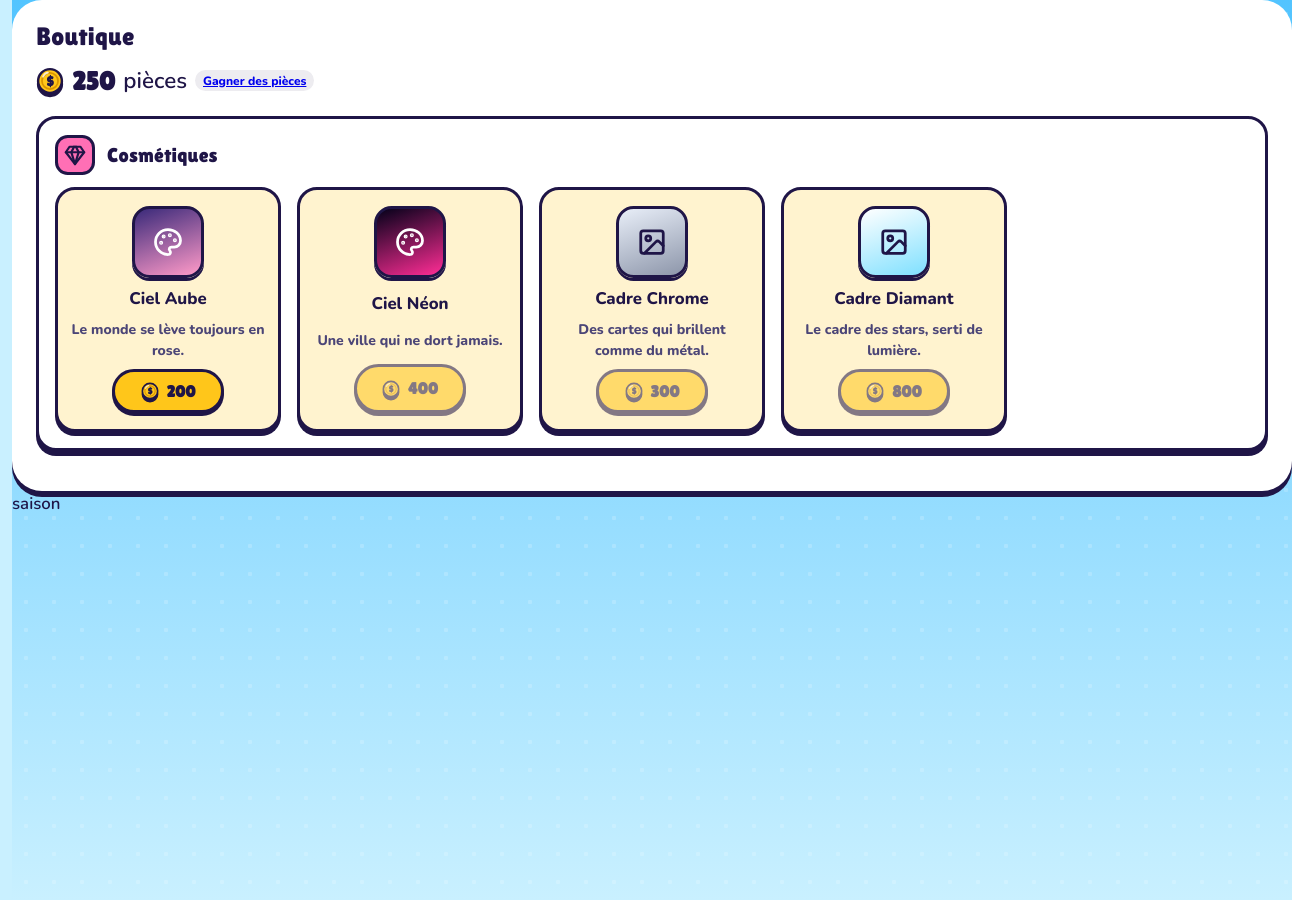
Test: Boutique du jeu › achète puis équipe un thème avec les pièces du portefeuille
Click the button named "Acheter Ciel Aube" at (168, 391), box [112, 369, 224, 413]
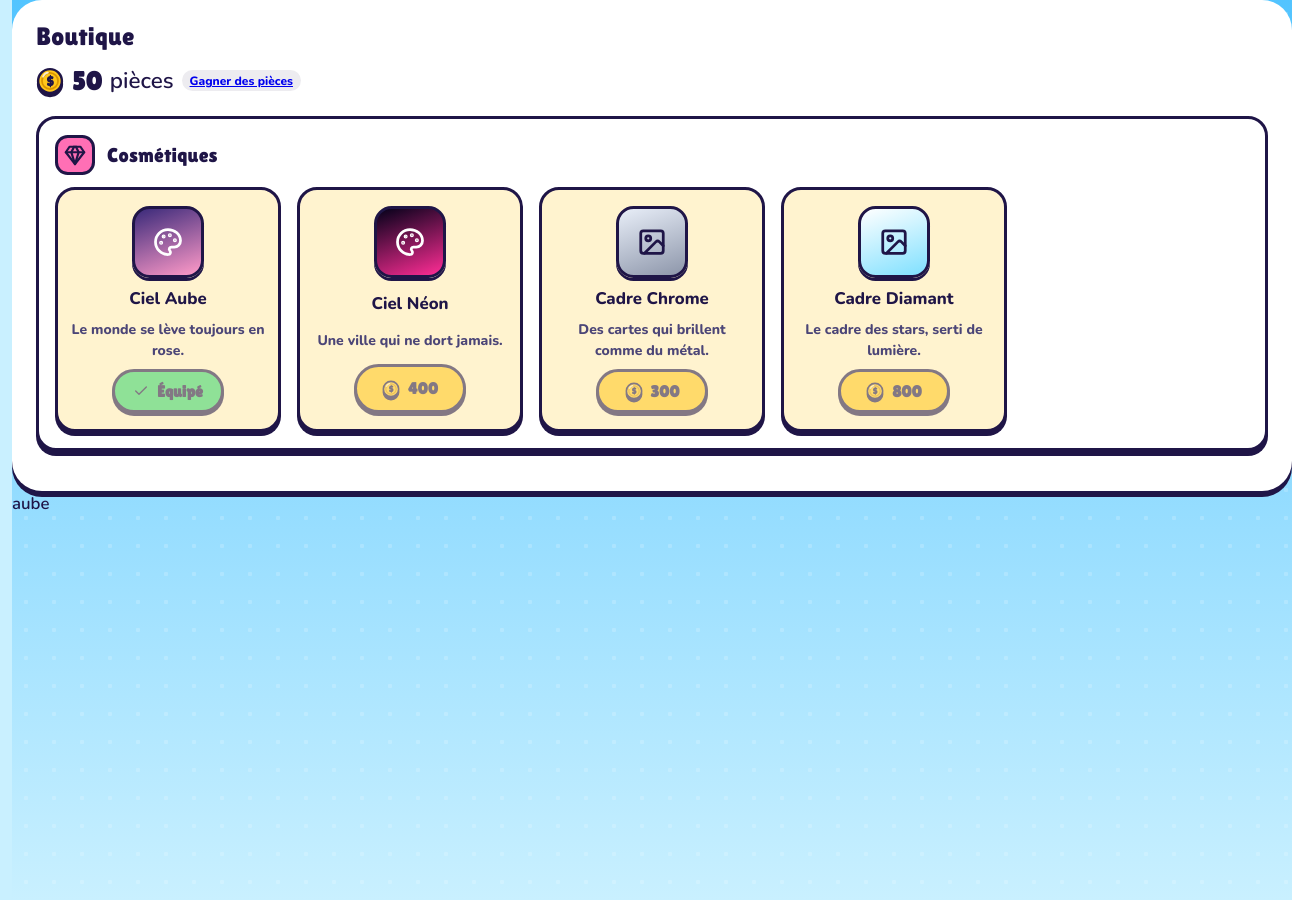
Check: the text "50" is shown, box [72, 62, 102, 100]
Check: the text with test id "theme" reads "aube", box [12, 492, 50, 515]
Check: the button "Équipé" is shown, box [112, 369, 224, 413]
